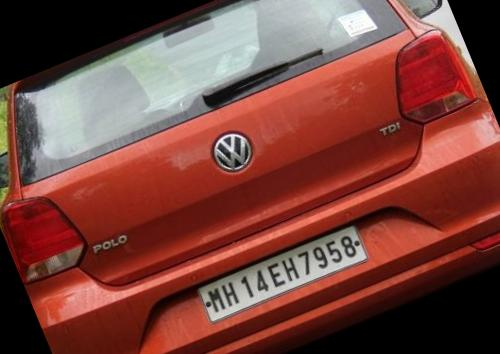plate: (176, 205, 387, 350)
